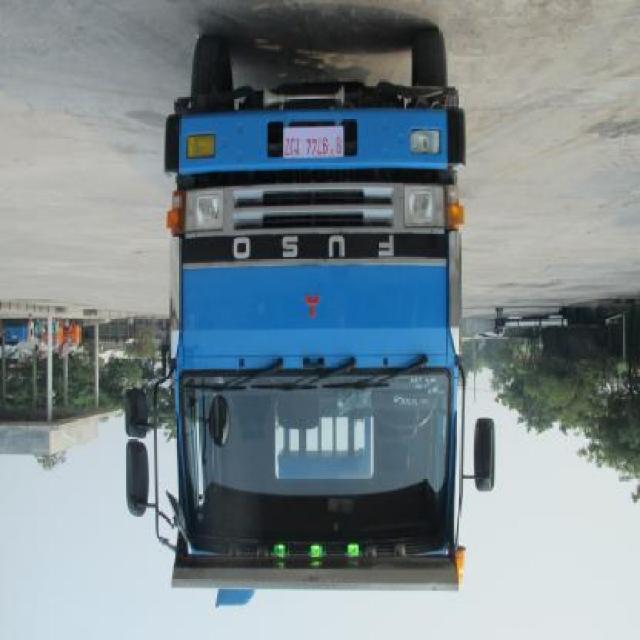truck: (126, 21, 501, 598)
